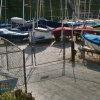Boat: (1, 19, 66, 49)
